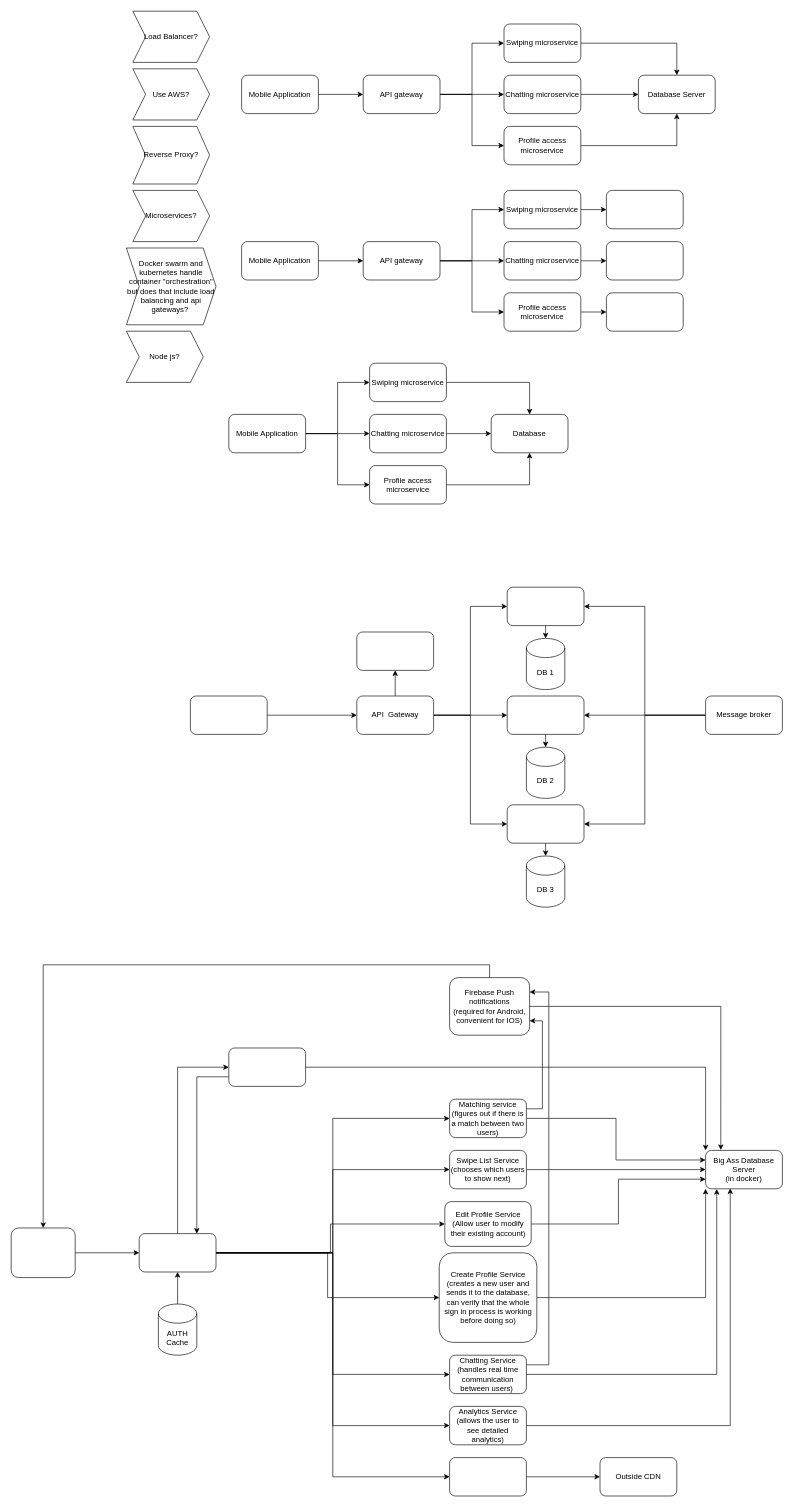
This 794x1507 diagram has some shape labels left out. The shapes that lost their labels are listed below. From the top down, each one's centre as x and y in pixels, then its label:
(x=644, y=209): Swiping Database
(x=644, y=260): Chatting Database
(x=644, y=311): Profile Database
(x=545, y=606): microservice 1
(x=395, y=650): Cache
(x=228, y=714): User Mobile Application
(x=545, y=714): Microservice 2
(x=545, y=823): Microservice 3
(x=267, y=1066): Authentication Service (authenticates users)
(x=43, y=1252): Flutter Application
(x=177, y=1252): API Gateway / Load Balancer (NodeJS)
(x=487, y=1476): Image/content delivery network service
